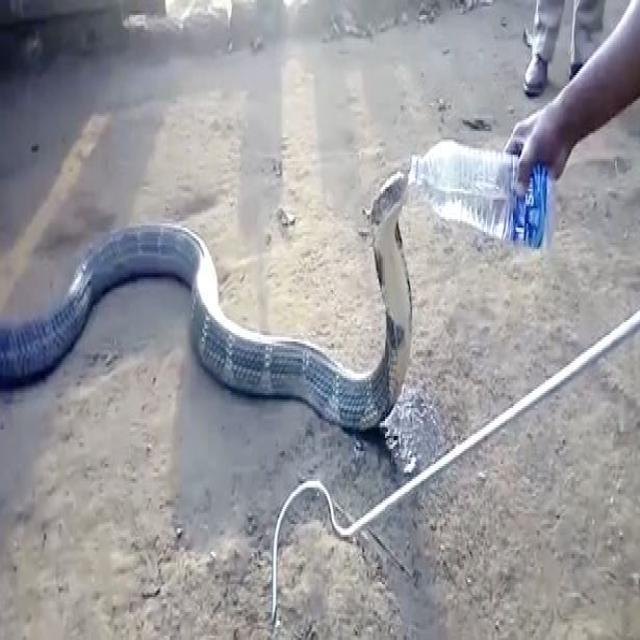Snake: (0, 167, 413, 434)
